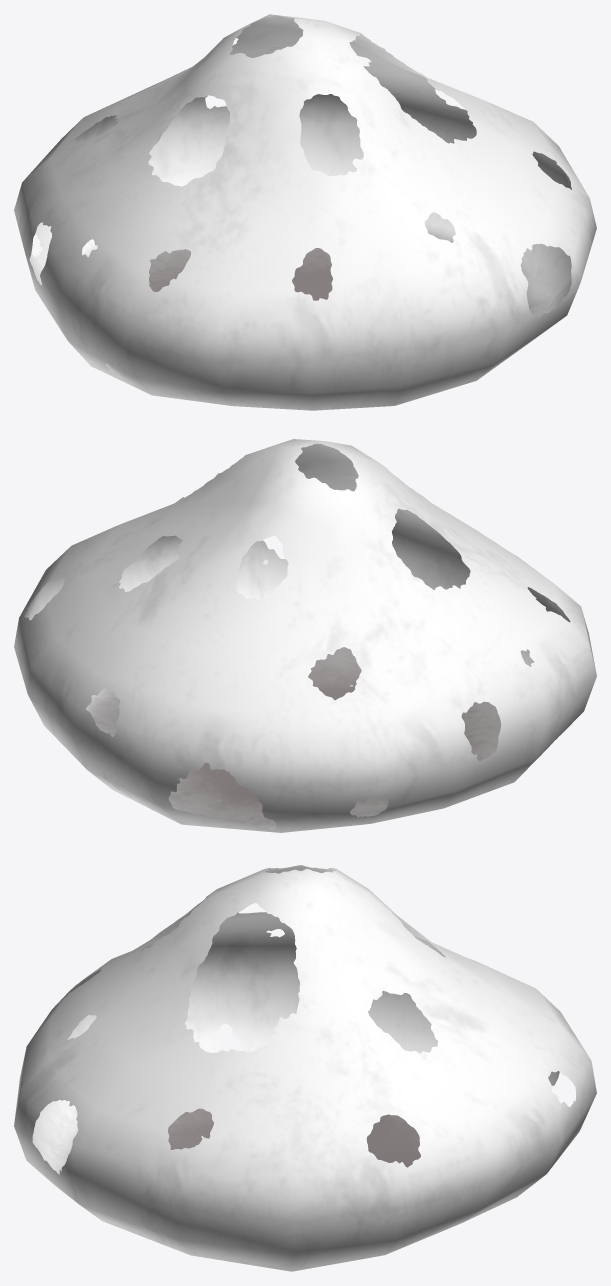
File: LootBox_EnemyDie_Mushroom.fbx
3 renders of one model, top to bottom at view 1: azimuth 30°, elevation 25°; view 2: azimuth 150°, elevation 25°; view 3: azimuth 270°, elevation 25°, orthographic.
Visible parts, largest first — view 1: MushroomHead; view 2: MushroomHead; view 3: MushroomHead.
Boxes of the visible parts, left/top/right/bottom form: MushroomHead: left=14, top=14, right=596, bottom=410; MushroomHead: left=14, top=439, right=596, bottom=832; MushroomHead: left=14, top=865, right=596, bottom=1271.
Size of the model in its own units: 0.7214 by 0.4428 by 0.7161.
Materials: 1 (1 with a texture image).
